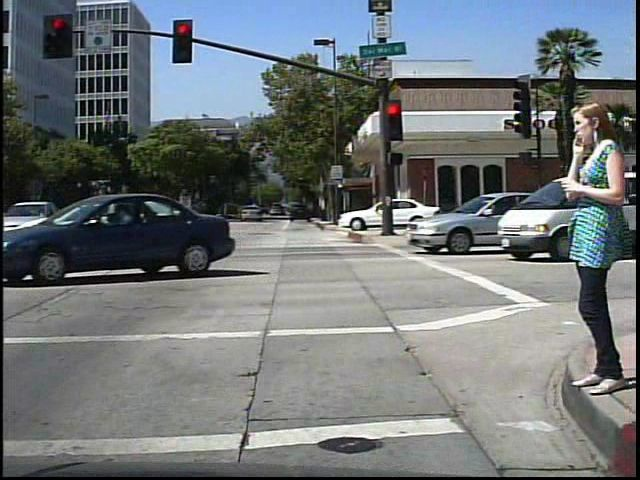person: (558, 88, 626, 405)
